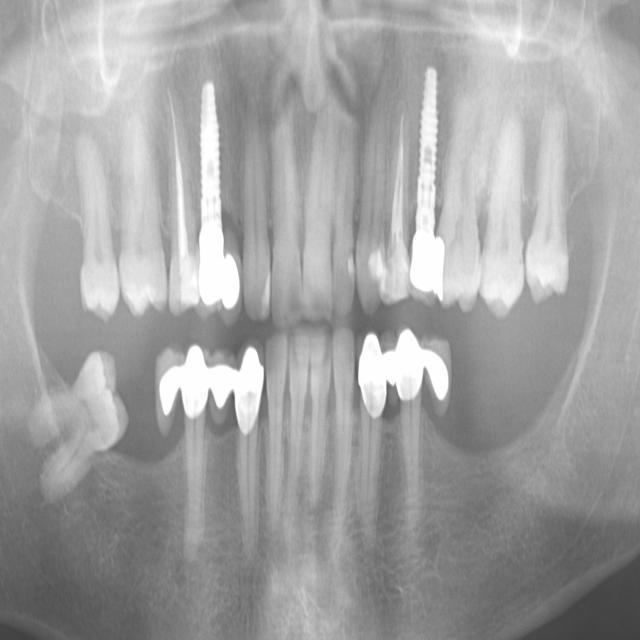infected-teeth: (164, 68, 200, 317), (382, 98, 414, 303)
